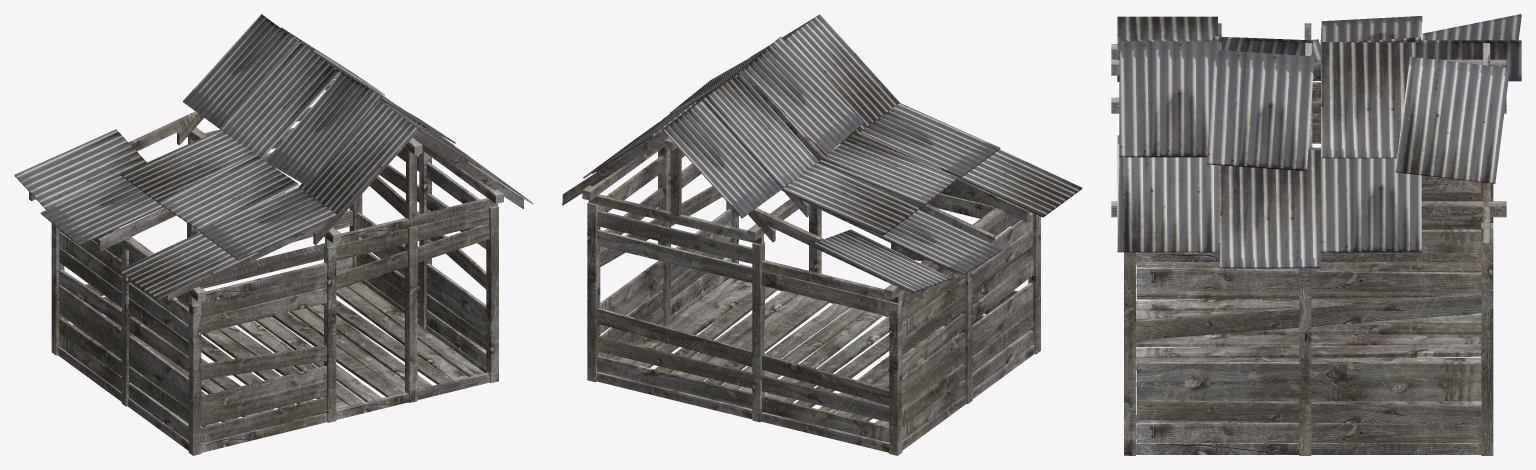
The model's file is houseAbandoned.FBX.
The picture shows the model from 3 angles, left to right: view 1: azimuth 30°, elevation 25°; view 2: azimuth 150°, elevation 25°; view 3: azimuth 270°, elevation 25°; orthographic projection. The views are drawn at different scales.
Parts seen in each view (by area): view 1: Object004; view 2: Object004; view 3: Object004.
Boxes of the visible parts, x1,y1,x2,y2 form: Object004: (14, 14, 533, 455); Object004: (562, 14, 1082, 455); Object004: (1111, 14, 1521, 455).
Bounding box in the file's own units: 288 × 201 × 204.
